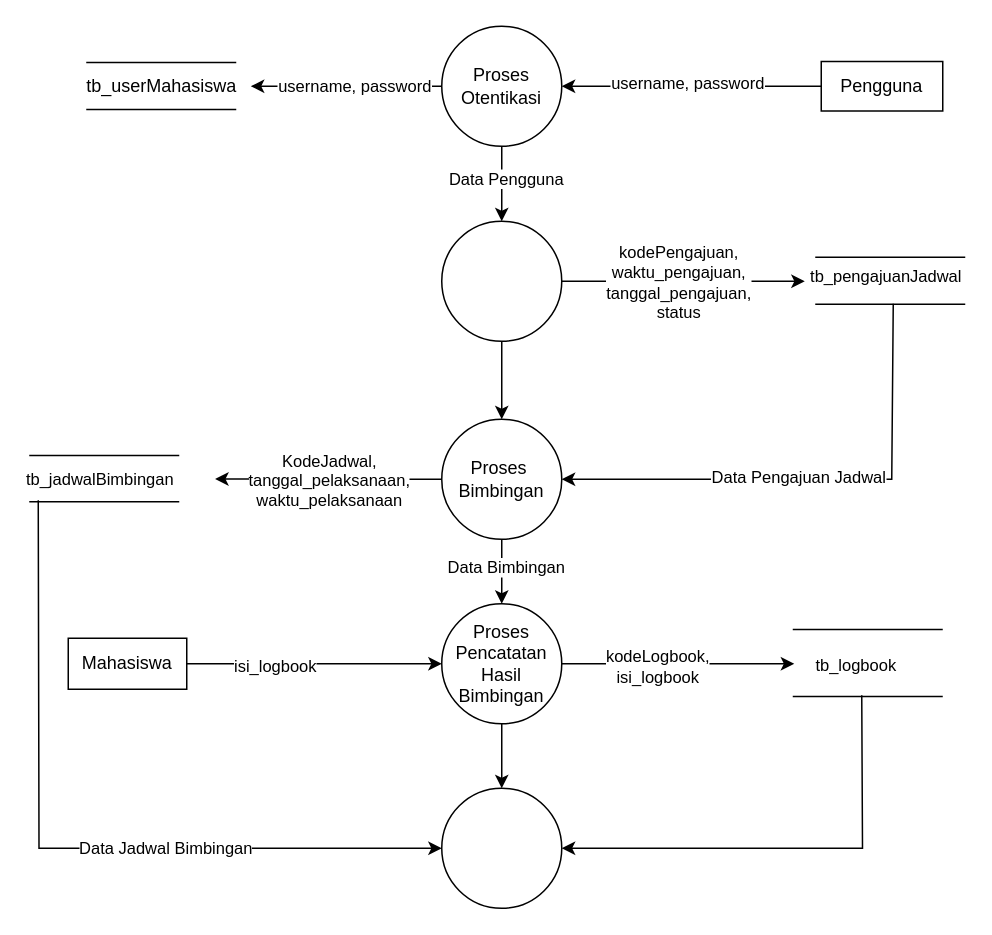
Image size: 992x935. Some labels were removed from this diagram. The shapes that lost their labels are listed below. From the top down, each one's centre as x and y in pixels, then its label:
At (x=501, y=280): "Proses Pengajuan Bimbingan".
At (x=501, y=847): "Proses Penyimpanan Riwayat Bimbingan".
